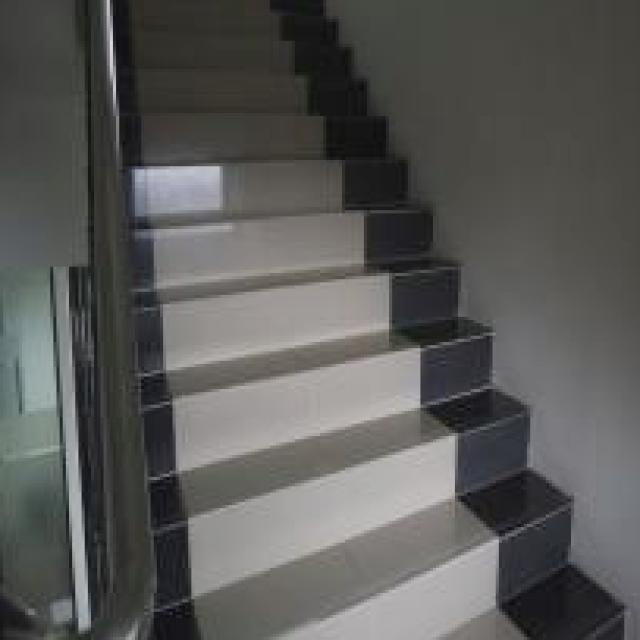upstair: (146, 1, 491, 640)
